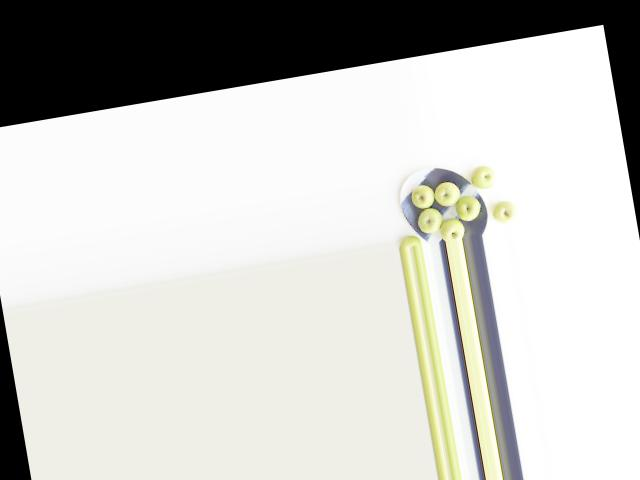apple: (409, 180, 437, 210)
